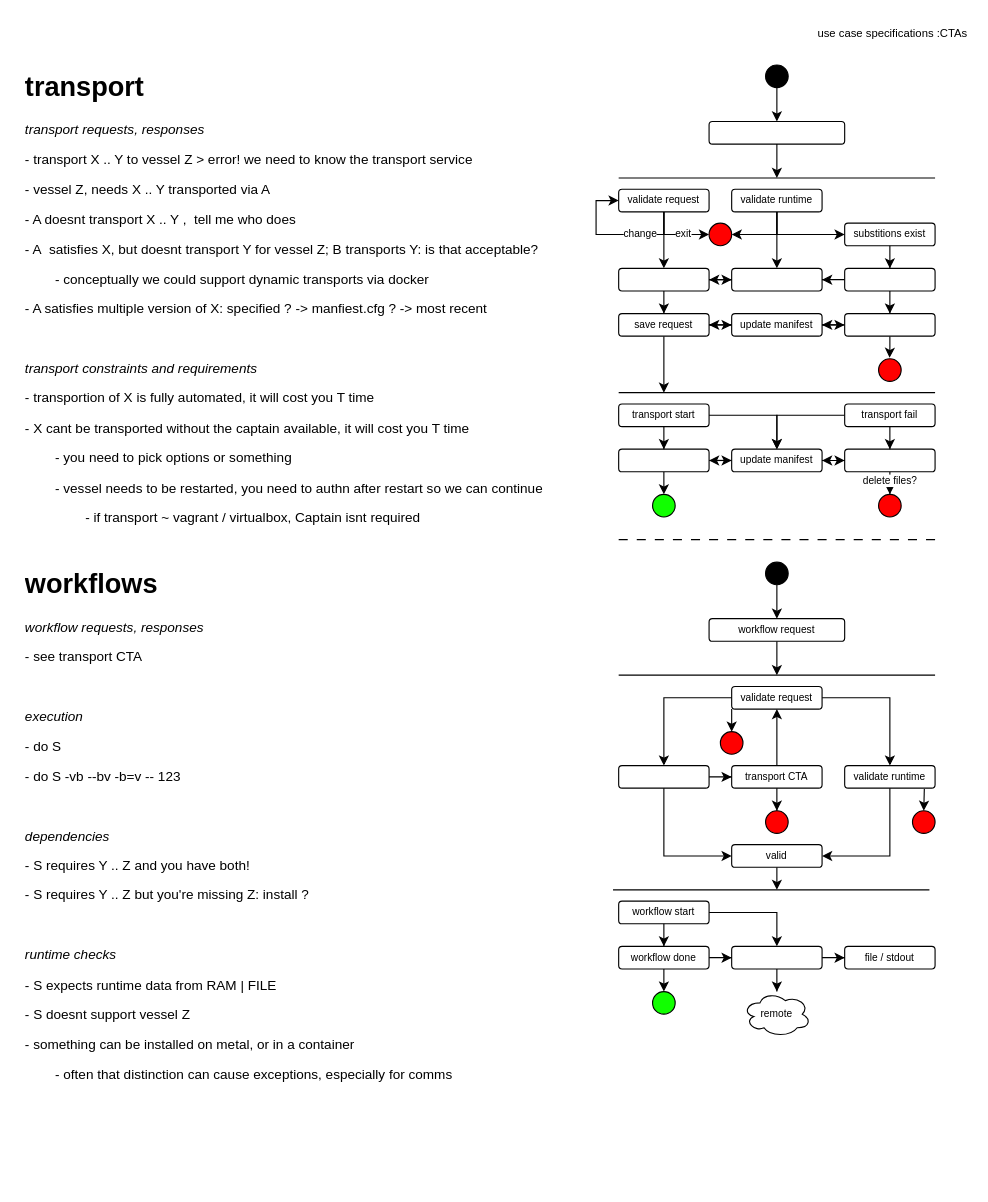
This 988x1202 diagram has some shape labels left out. Here are the shapes that lost their labels. From the top down, the centre of each, then its label:
At (776,132): "transport request".
At (663,279): "accept request".
At (776,279): "update request".
At (889,279): "subs accepted".
At (889,324): "subs rejected".
At (663,460): "transport done".
At (889,460): "rollback".
At (663,776): "validate deps".
At (776,957): "log".
